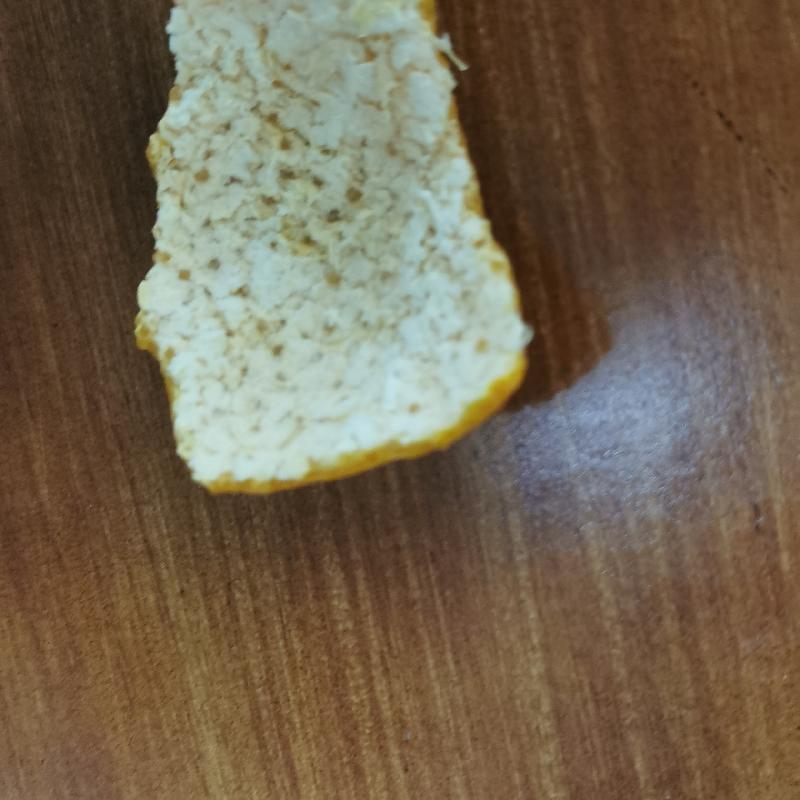orange: (121, 1, 535, 500)
